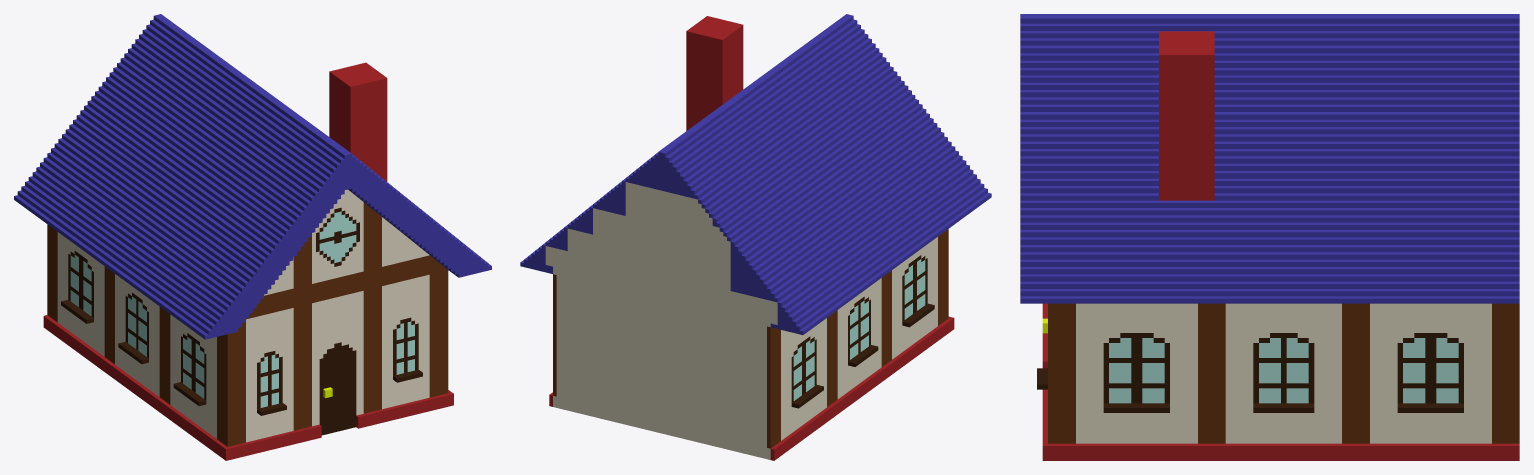
File: house_rhombus.blue.obj
3 renders of one model, left to right at view 1: azimuth 30°, elevation 25°; view 2: azimuth 150°, elevation 25°; view 3: azimuth 270°, elevation 25°, orthographic. The views are drawn at different scales.
Bounding box in the file's own units: 7.8 × 7.8 × 9.
Materials: 1 (1 with a texture image).
